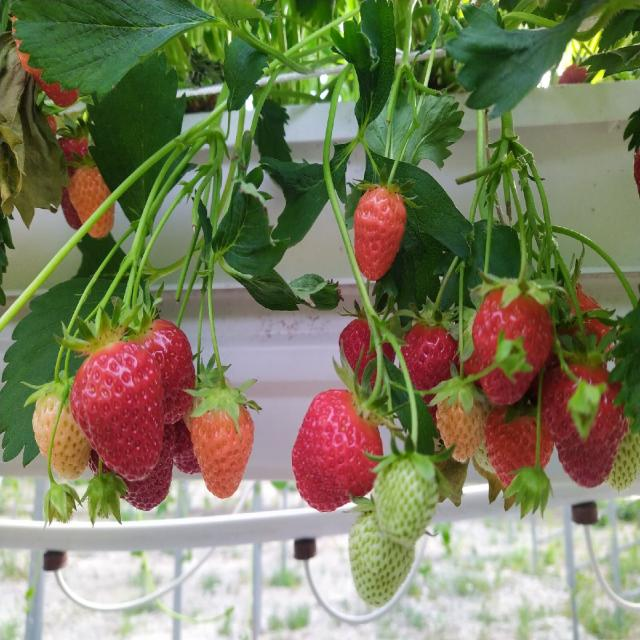Ripe Strawberry: (69, 340, 161, 480), (544, 362, 626, 487), (471, 290, 553, 407), (86, 424, 174, 510), (130, 316, 197, 425), (402, 321, 462, 426), (556, 284, 613, 364), (338, 319, 396, 396), (56, 136, 91, 230), (159, 410, 204, 473), (559, 62, 590, 84)
